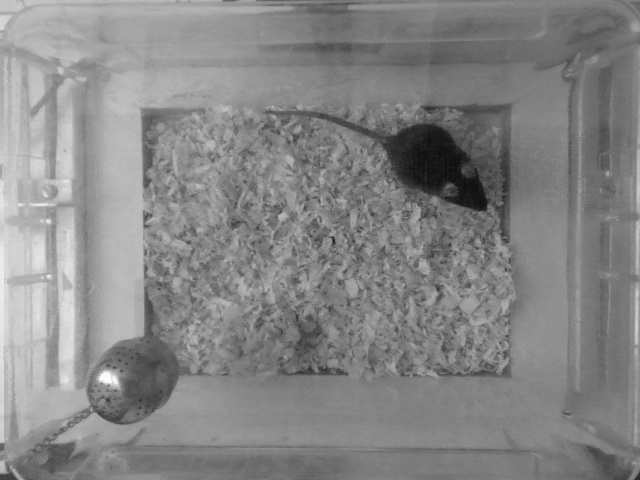mice: (260, 105, 491, 218)
